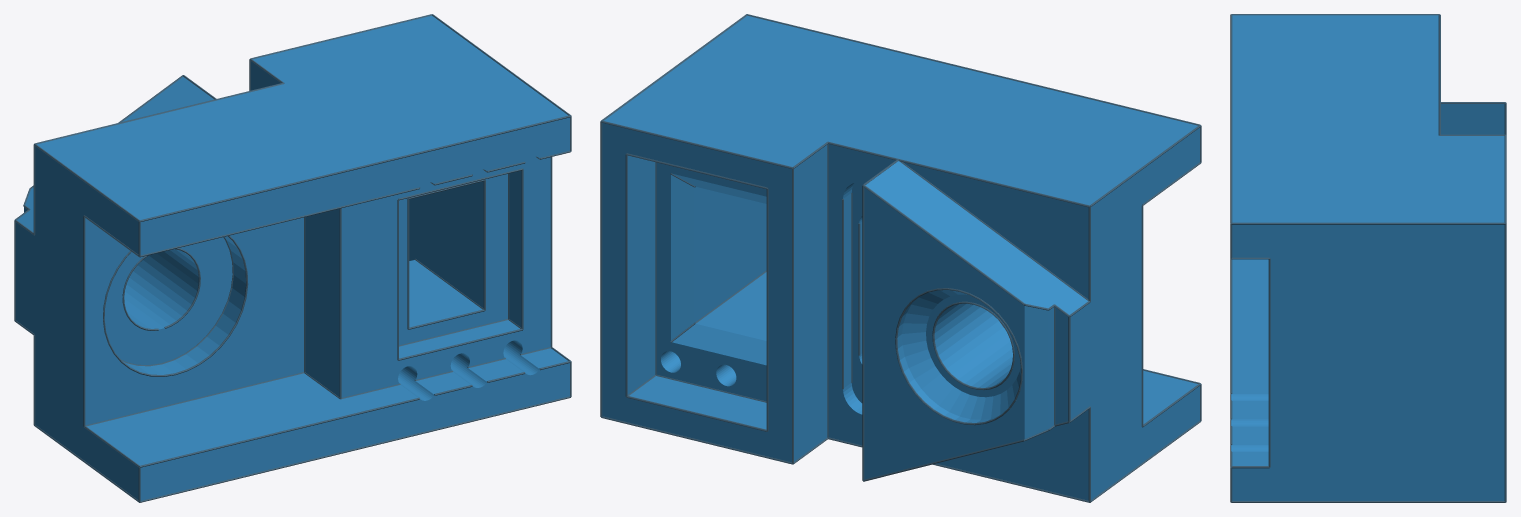
File: model_full_blue_edges_clear.glb
3 views of the same model, side by side, from view 1: azimuth 30°, elevation 25°; view 2: azimuth 150°, elevation 25°; view 3: azimuth 270°, elevation 25° (orthographic). The views are drawn at different scales.
Parts seen in each view (by area): view 1: model_full.stl, navy_edges_high_contrast; view 2: model_full.stl, navy_edges_high_contrast; view 3: model_full.stl, navy_edges_high_contrast.
Boxes of the visible parts, x1,y1,x2,y2 form: model_full.stl: [16, 15, 569, 500]; navy_edges_high_contrast: [14, 14, 571, 502]; model_full.stl: [602, 15, 1199, 500]; navy_edges_high_contrast: [600, 14, 1201, 502]; model_full.stl: [1231, 15, 1504, 500]; navy_edges_high_contrast: [1230, 14, 1506, 502].
Bounding box in the file's own units: 90.38 × 56.33 × 50.38.
